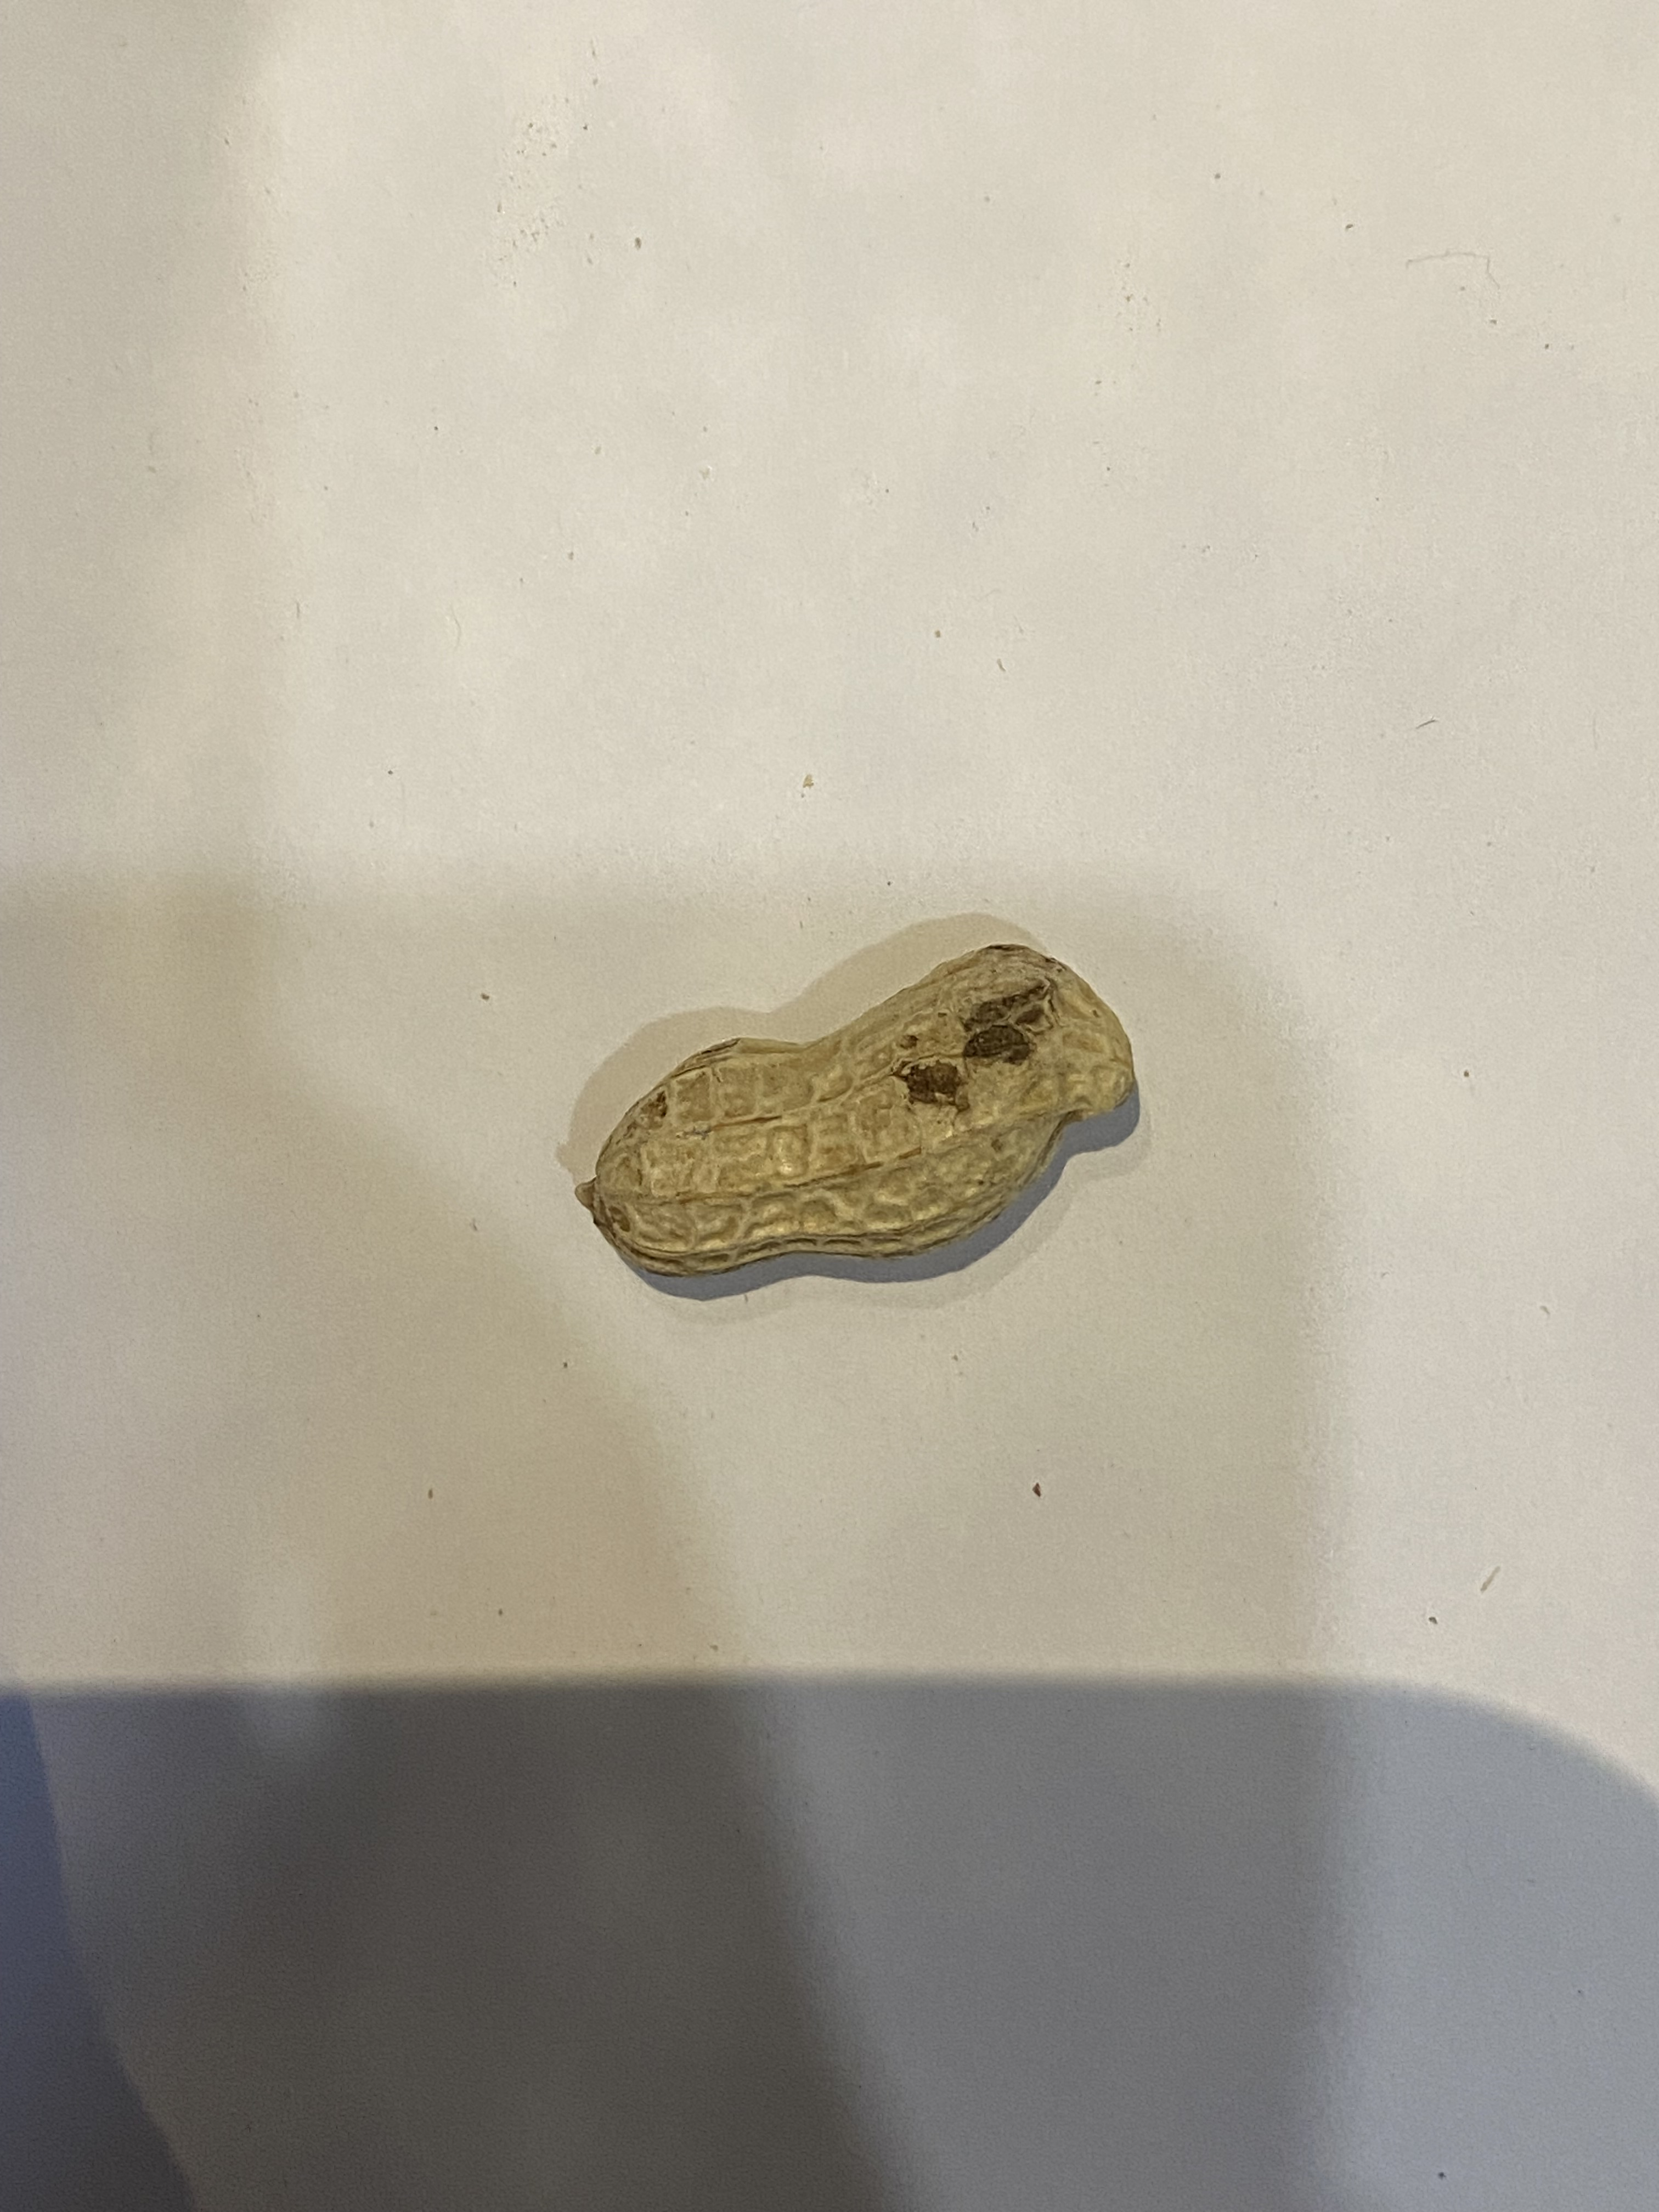kacang2: (516, 937, 1161, 1294)
